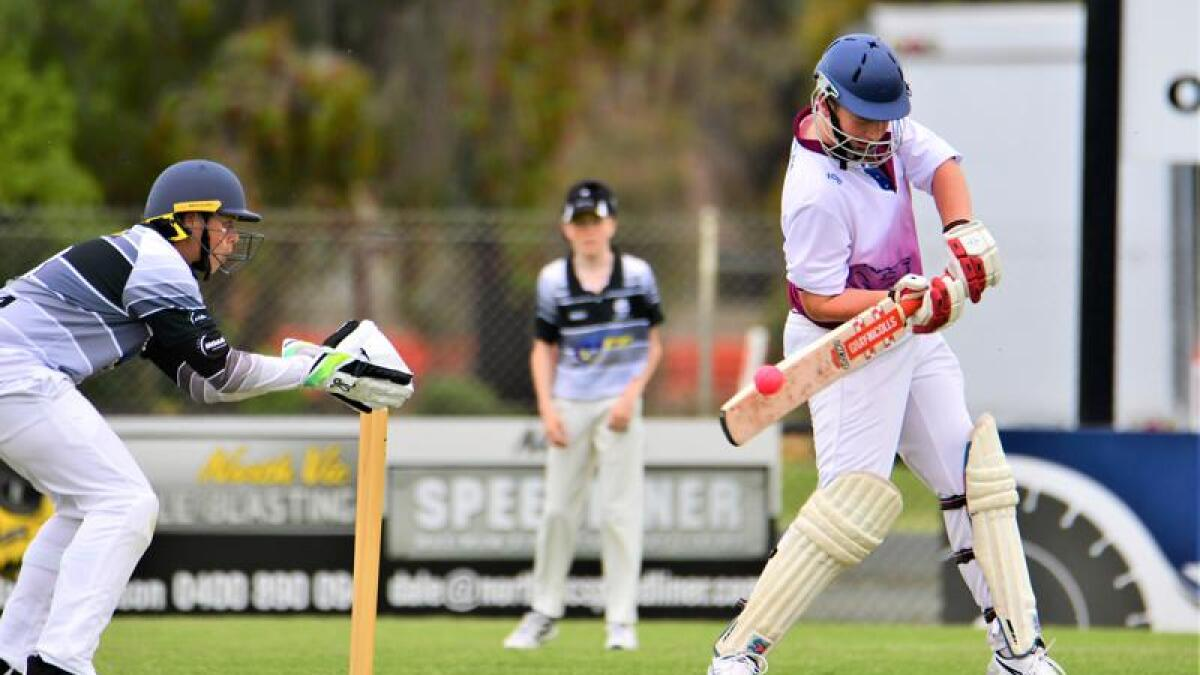Cutshot: (514, 2, 1116, 673)
